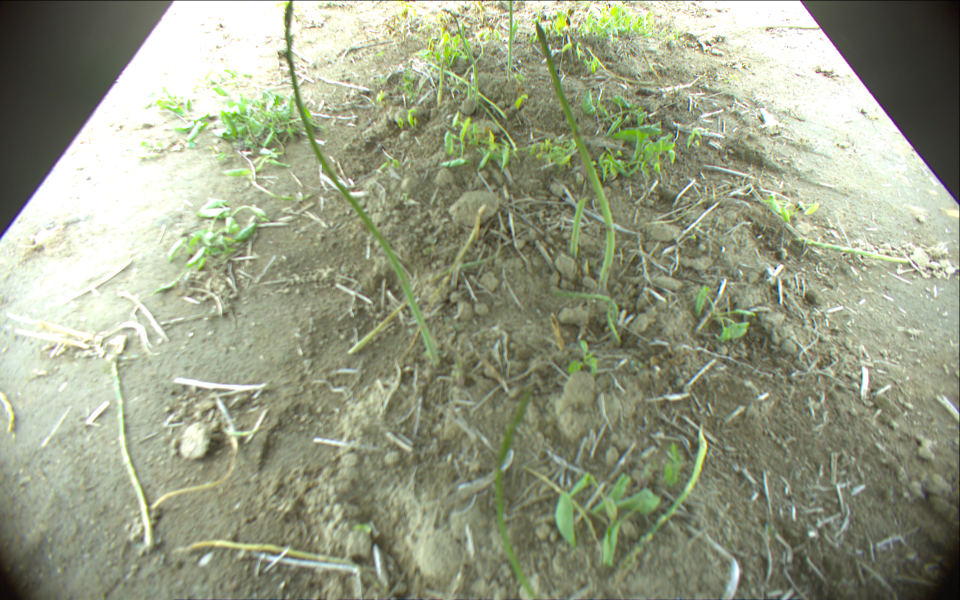aspa: (284, 1, 438, 363), (533, 19, 617, 293), (602, 422, 708, 588), (490, 384, 537, 600), (109, 357, 154, 545), (175, 540, 358, 571), (427, 61, 509, 120), (795, 236, 913, 265), (454, 14, 478, 101), (567, 197, 589, 258), (507, 1, 513, 78), (467, 78, 474, 100)
